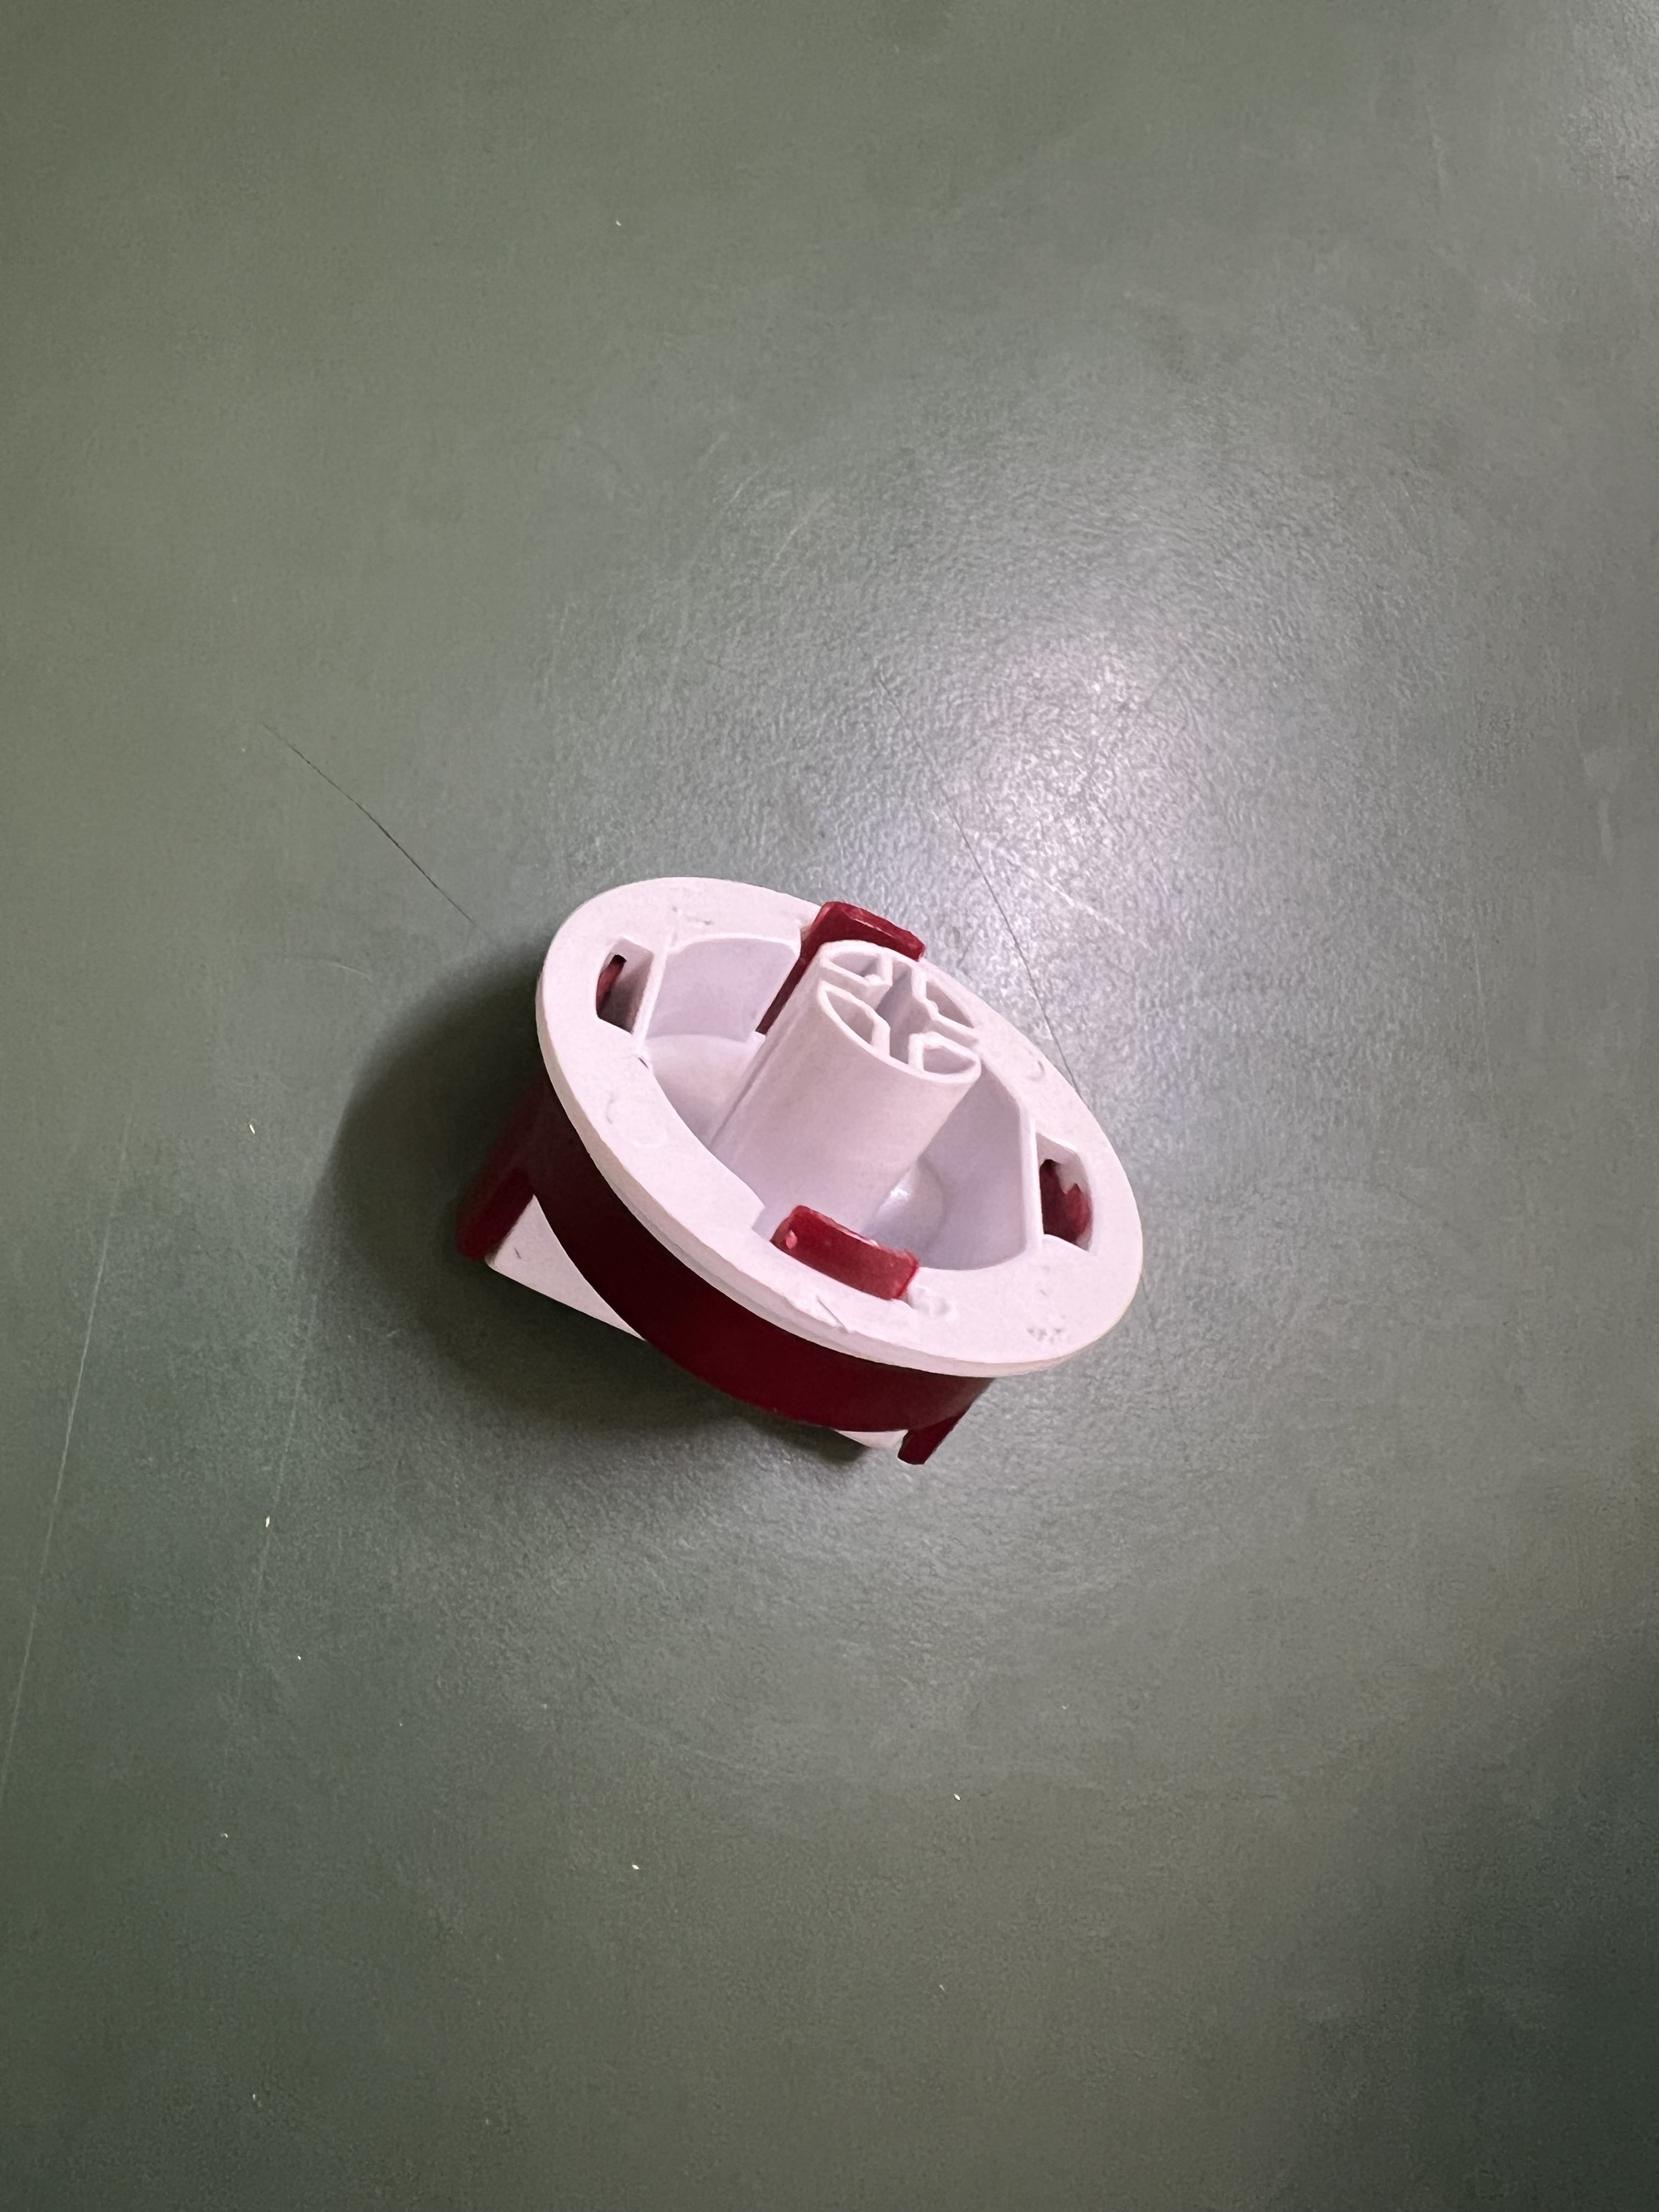regulator: (460, 836, 1159, 1561)
